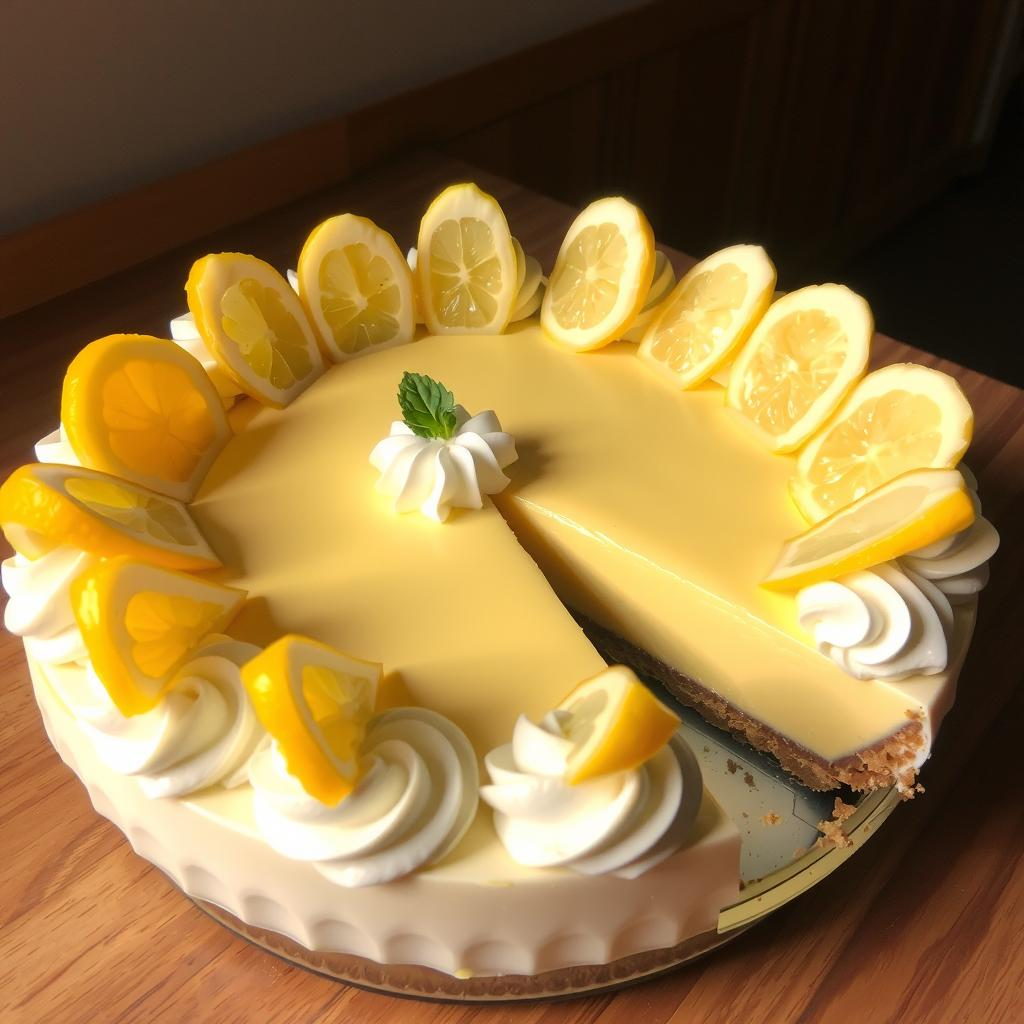pie: (0, 176, 997, 993)
